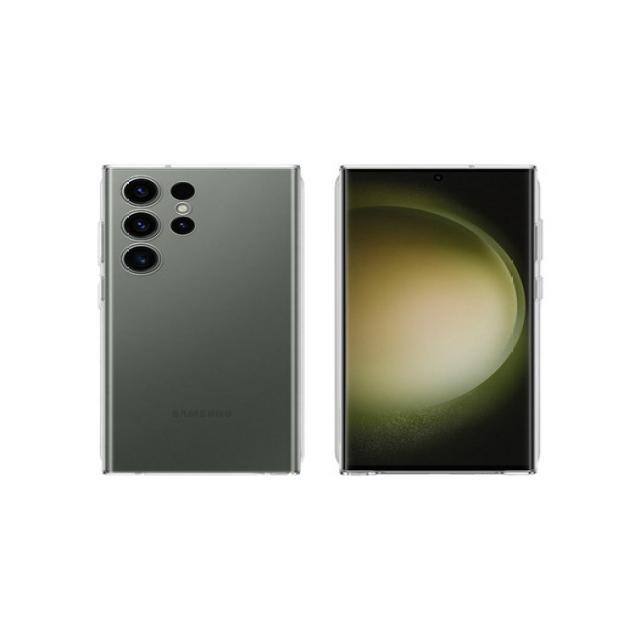phone: (98, 164, 302, 476)
